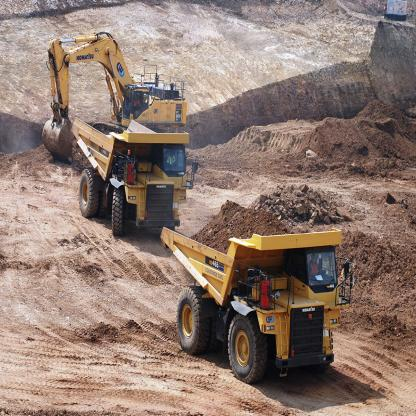dump_truck: (154, 198, 348, 392), (71, 107, 191, 241)
excavator: (38, 23, 200, 175)
